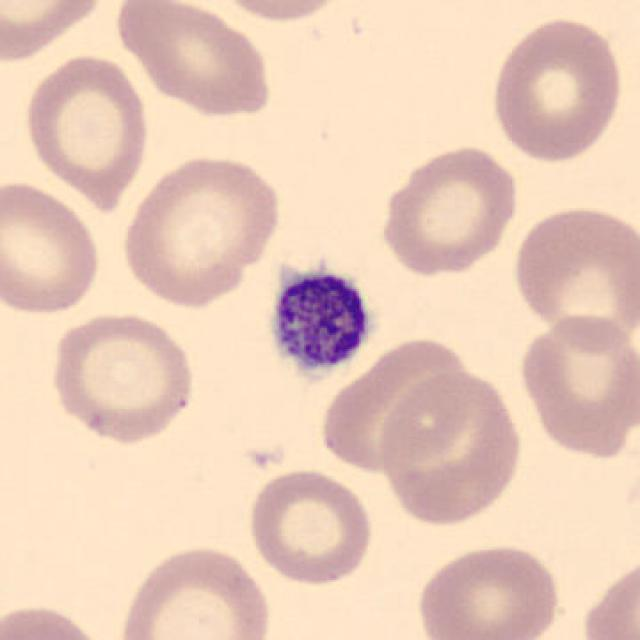Platelets: (260, 252, 382, 386)
RBC: (118, 150, 284, 308), (375, 365, 526, 529), (313, 330, 475, 476), (486, 11, 628, 166), (19, 49, 153, 208), (46, 309, 199, 446), (377, 141, 523, 279), (110, 0, 276, 118), (508, 201, 638, 349), (514, 310, 638, 462), (113, 539, 275, 640), (243, 466, 377, 587), (412, 539, 565, 640), (0, 176, 105, 319), (0, 0, 112, 65), (576, 550, 638, 640), (0, 599, 114, 640), (207, 0, 357, 26)
